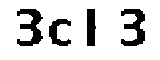3: (12, 5, 46, 49), (118, 6, 148, 50)
I: (83, 6, 102, 49)
c: (48, 17, 76, 48)
